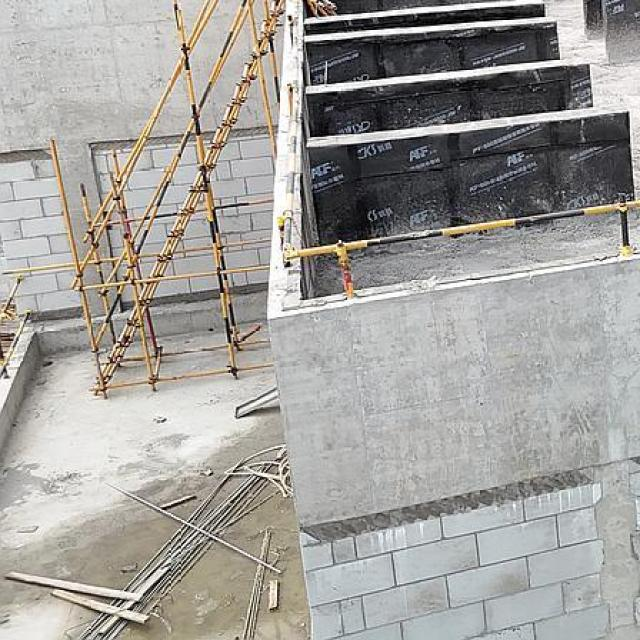edge_guardrail: (277, 0, 640, 299), (0, 270, 33, 380)
